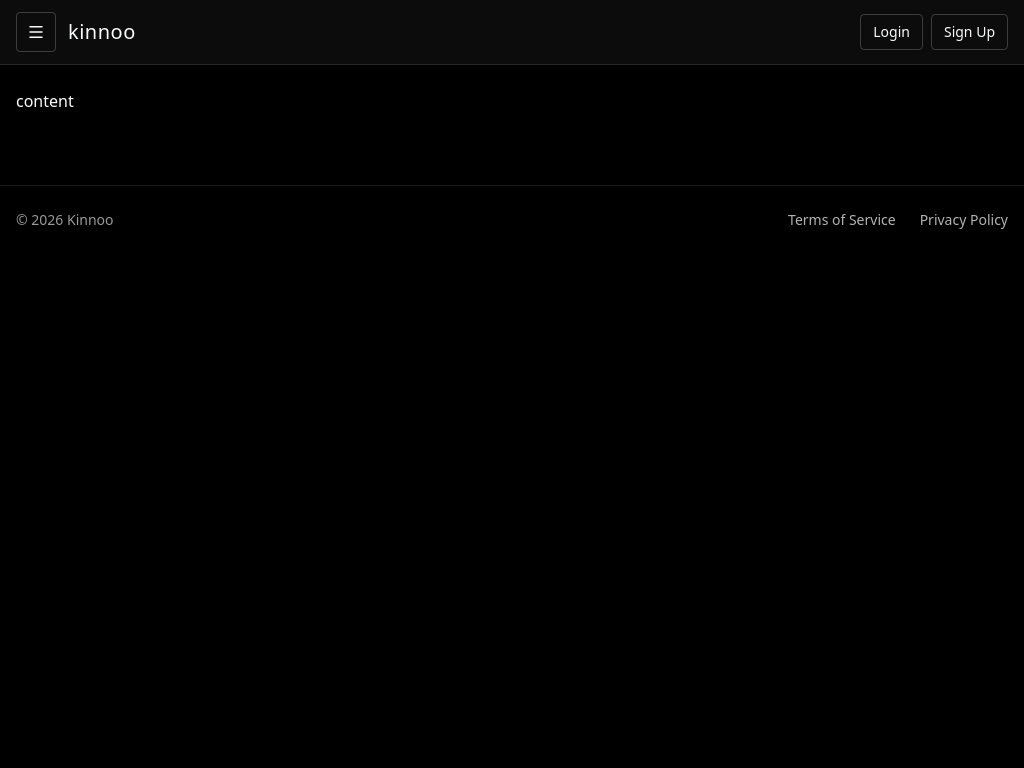
Scenario: MainLayout › opens menu sheet with expected navigation links
What coordinates should you click on to do the following:
click the button named "open menu"
I would click on:
 (36, 32)
Its box is [16,12,56,52].
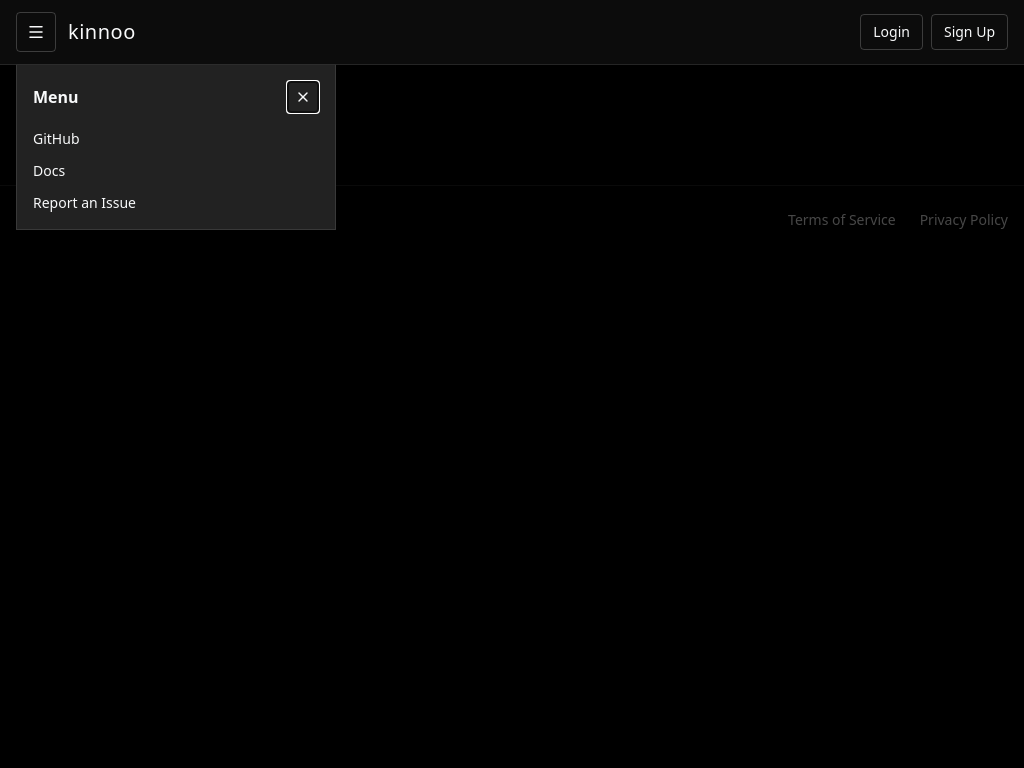
Result: the link "GitHub" is shown at [33,129,80,148]
Result: the link "Docs" is shown at [33,161,65,180]
Result: the link "Report an Issue" is shown at [33,193,136,212]
